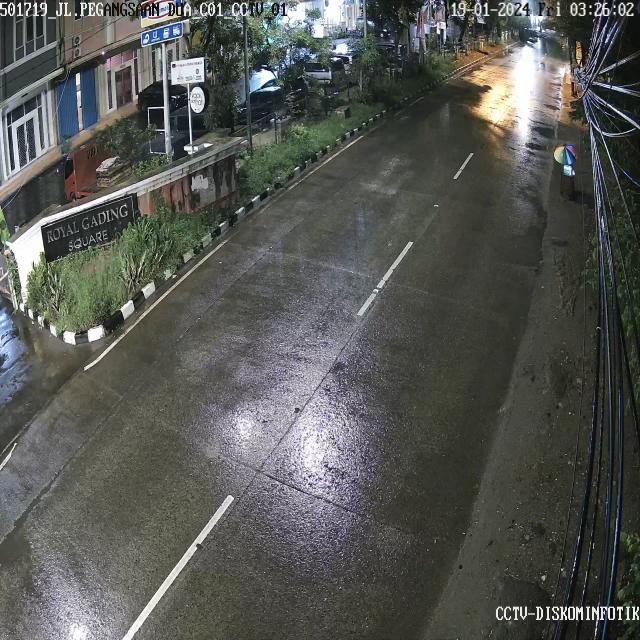Gerobak: (556, 164, 580, 197)
Payung: (554, 138, 580, 167)
